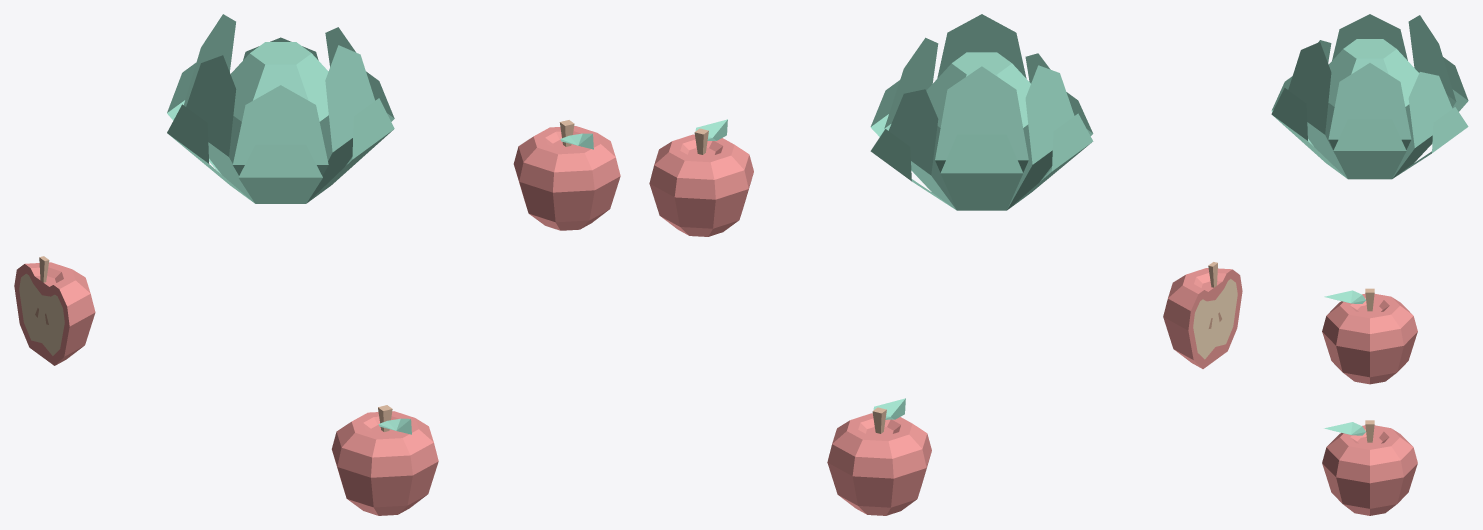
File: apple.glb
3 renders of one model, left to right at view 1: azimuth 30°, elevation 25°; view 2: azimuth 150°, elevation 25°; view 3: azimuth 270°, elevation 25°, orthographic. The views are drawn at different scales.
Parts seen in each view (by area): view 1: cabbage, apple_2, apple, appleHalf; view 2: cabbage, apple, apple_2, appleHalf; view 3: cabbage, apple_2, apple.
Boxes of the visible parts, <box> form: cabbage: <box>167,14,394,203</box>; apple_2: <box>513,120,620,230</box>; apple: <box>331,405,438,515</box>; appleHalf: <box>14,256,95,365</box>; cabbage: <box>870,14,1093,210</box>; apple: <box>827,398,931,515</box>; apple_2: <box>649,119,753,236</box>; appleHalf: <box>1163,262,1242,368</box>; cabbage: <box>1271,14,1468,179</box>; apple_2: <box>1322,288,1417,384</box>; apple: <box>1322,420,1417,515</box>.
Size of the model in its own units: 1.17 by 0.9832 by 0.4036.
